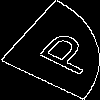P: (25, 25, 100, 79)
